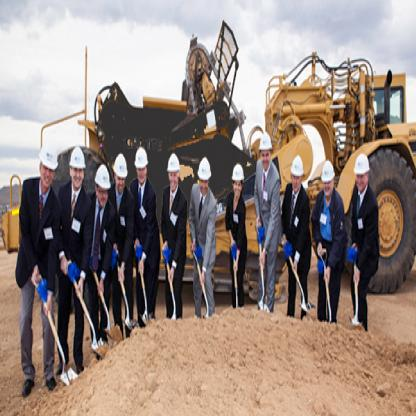person: (17, 138, 60, 408), (59, 131, 90, 389), (315, 138, 349, 348), (248, 116, 282, 322), (347, 128, 380, 323), (284, 136, 314, 329), (160, 135, 188, 340), (131, 126, 157, 334), (88, 132, 113, 348), (220, 127, 247, 322), (190, 139, 217, 333), (112, 147, 132, 333)
